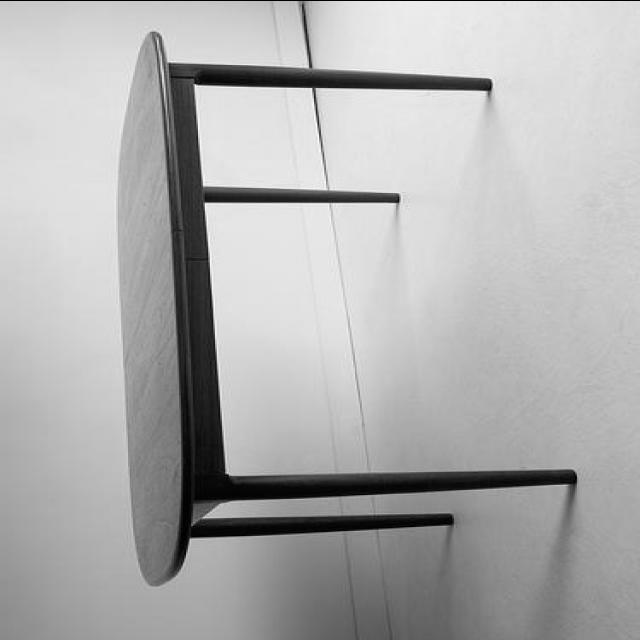table: (115, 23, 578, 583)
